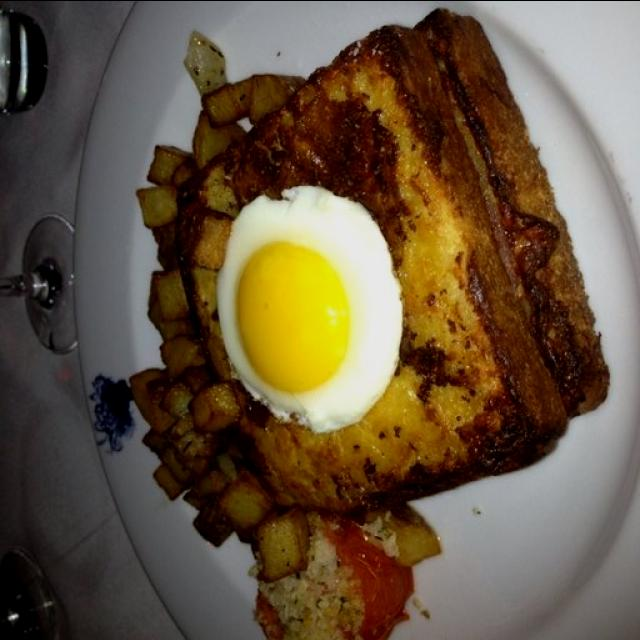telur ceplok: (216, 184, 406, 434)
